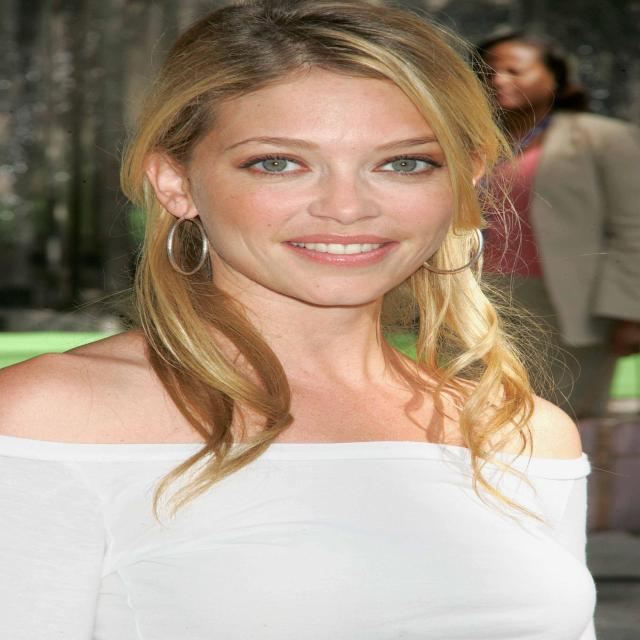no-earmuff: (119, 126, 234, 239)
